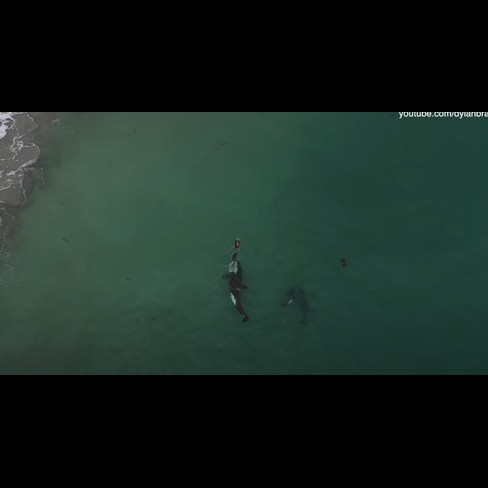orca: (221, 254, 260, 329), (226, 233, 245, 266)
